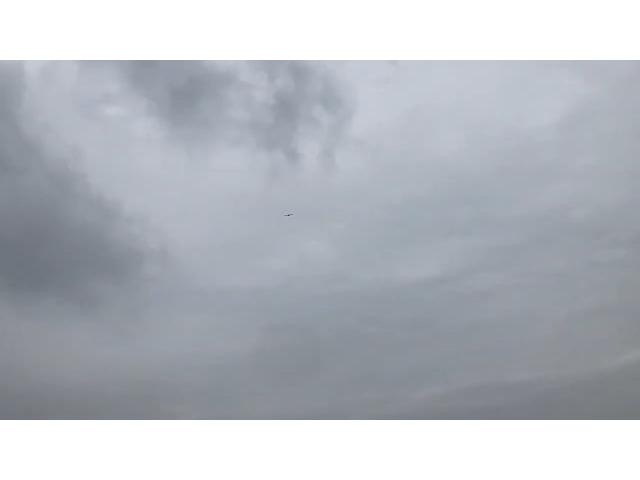Anti-Drone: (270, 205, 306, 223)
